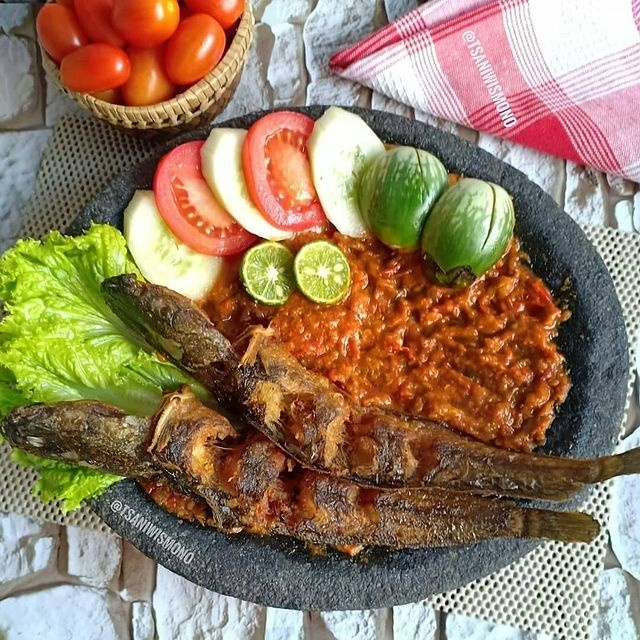pecel_lele: (2, 394, 607, 564)
